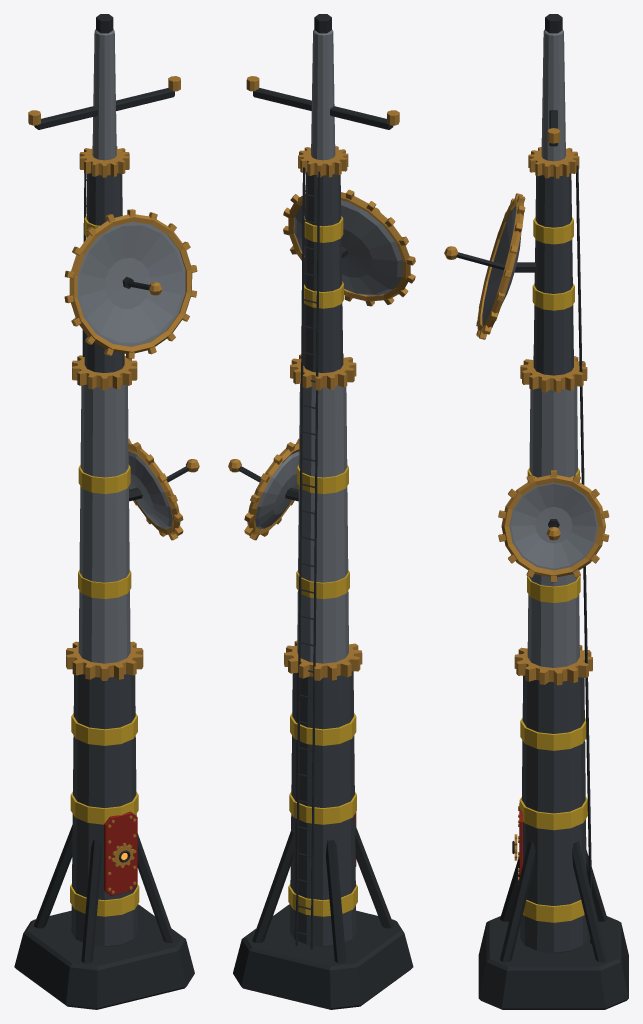
Rendered from cog_relay_mast.fbx.
The picture shows the model from 3 angles, left to right: view 1: azimuth 30°, elevation 25°; view 2: azimuth 150°, elevation 25°; view 3: azimuth 270°, elevation 25°; orthographic projection.
Parts seen in each view (by area): view 1: Body; view 2: Body; view 3: Body.
Boxes of the visible parts, <box> form: Body: <box>14,14,199,1009</box>; Body: <box>228,14,415,1009</box>; Body: <box>444,14,628,1009</box>.
Bounding box in the file's own units: 13.59 × 73 × 12.7.
2 materials, 1 textured.
